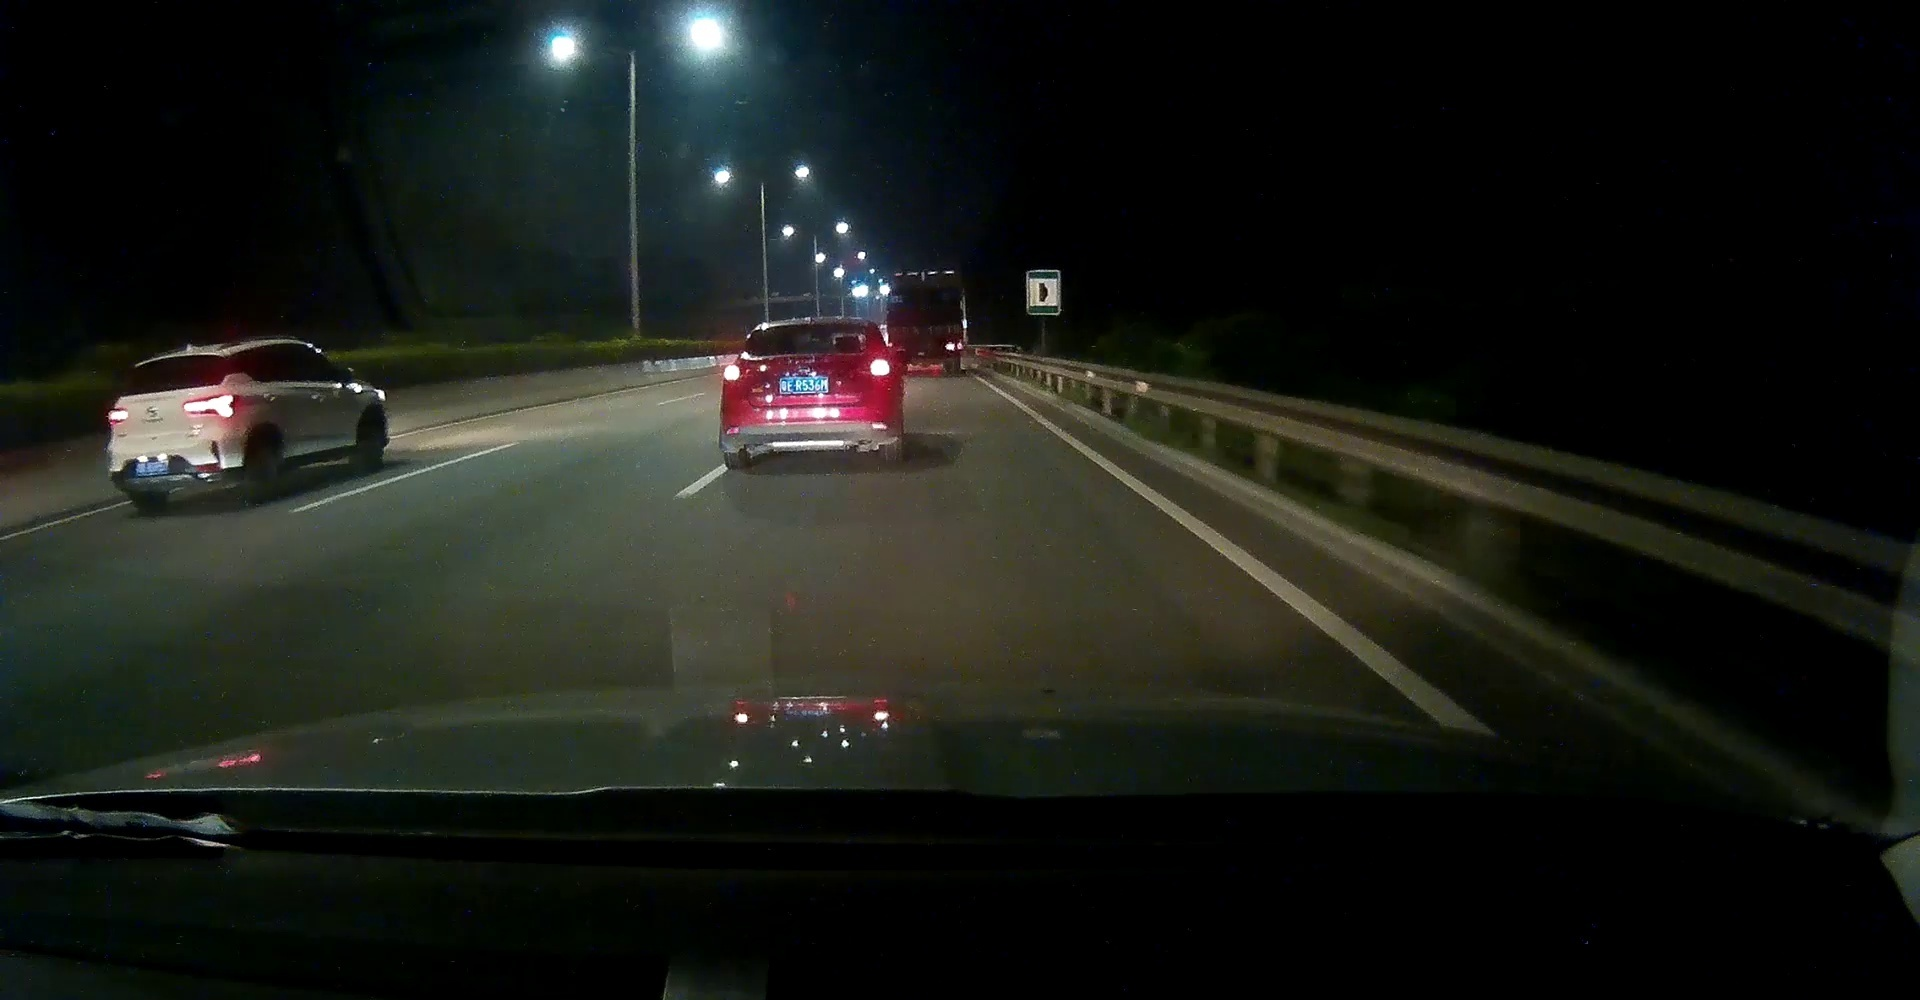L_light: (723, 364, 742, 382), (107, 409, 130, 423)
R_light: (182, 393, 236, 418), (869, 357, 891, 378)
T_light: (803, 325, 830, 331), (164, 357, 190, 363)
night-no: (717, 317, 902, 470), (105, 349, 243, 506)
